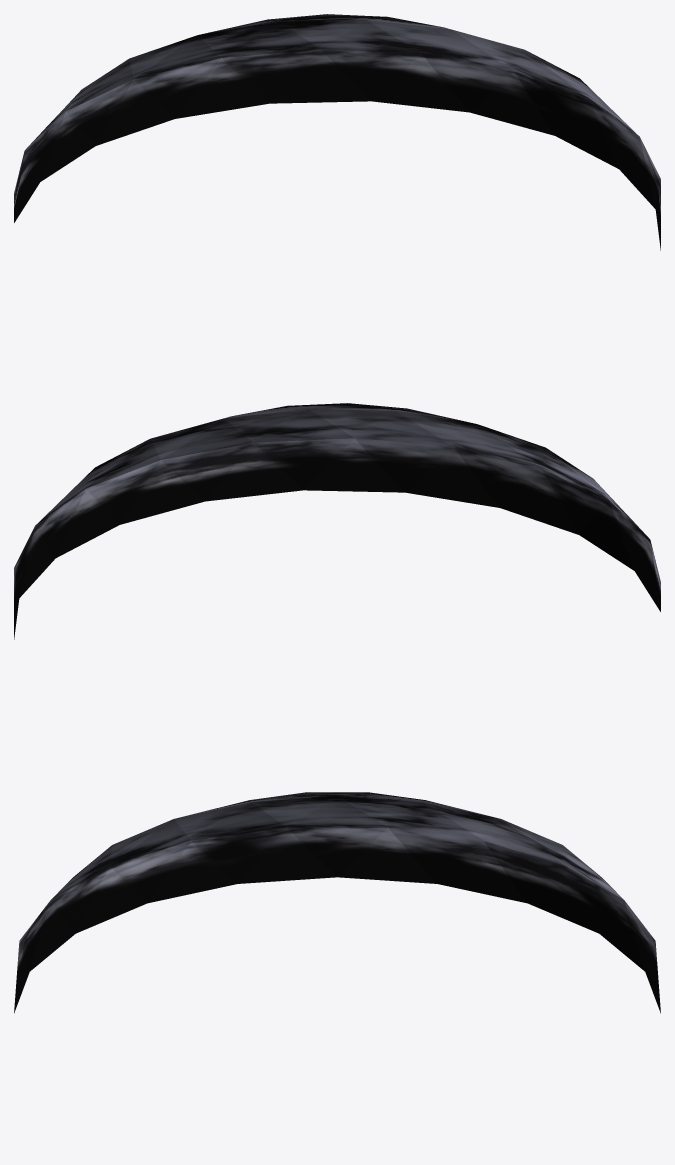
Rendered from vrcorn.glb.
3 views of the same model, one above another, from view 1: azimuth 30°, elevation 25°; view 2: azimuth 150°, elevation 25°; view 3: azimuth 270°, elevation 25° (orthographic).
Visible parts, largest first — view 1: polygon0; view 2: polygon0; view 3: polygon0.
Boxes of the visible parts, x1=… form: polygon0: x1=14, y1=14, x2=660, y2=250; polygon0: x1=14, y1=403, x2=660, y2=639; polygon0: x1=14, y1=792, x2=660, y2=1013.
Bounding box in the file's own units: 1992 × 596 × 1992.
1 material, 1 textured.
